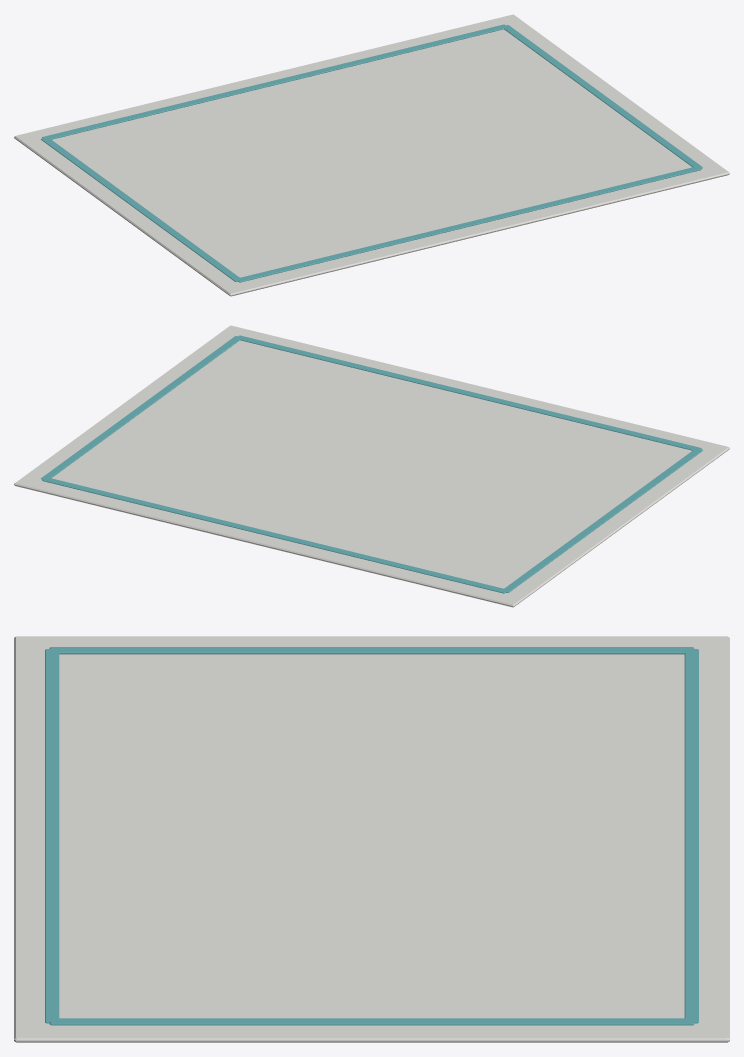
Rendered from fast-food-and-drive-thru-tray-liner-5f31d264__16170.glb.
3 renders of one model, top to bottom at view 1: azimuth 30°, elevation 25°; view 2: azimuth 150°, elevation 25°; view 3: azimuth 270°, elevation 25°, orthographic. The views are drawn at different scales.
Parts seen in each view (by area): view 1: tray-liner; view 2: tray-liner; view 3: tray-liner.
Part boxes in pixels (<box>): tray-liner: <box>14,14,729,296</box>; tray-liner: <box>14,325,729,607</box>; tray-liner: <box>14,636,729,1042</box>.
Size of the model in its own units: 0.4 by 0.00301 by 0.3.
